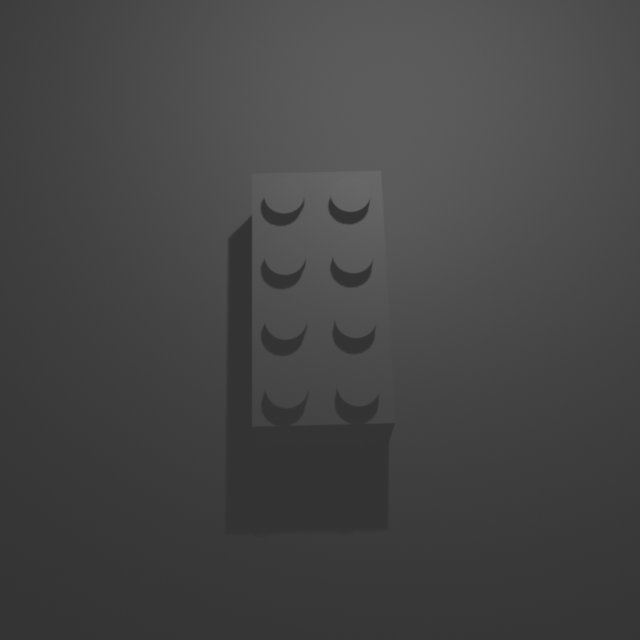lego_2x4: (251, 164, 397, 445)
